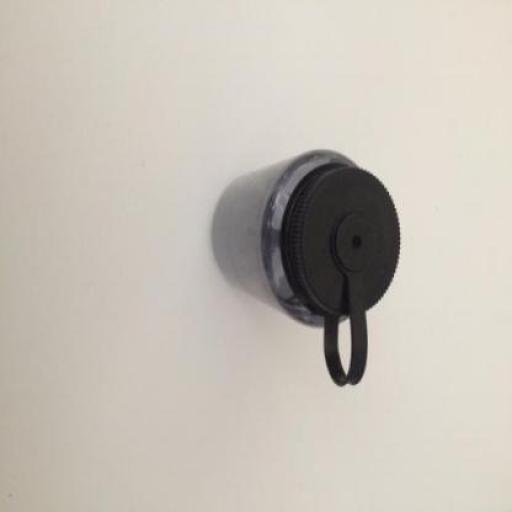plastic: (213, 146, 402, 386), (283, 161, 403, 383)
